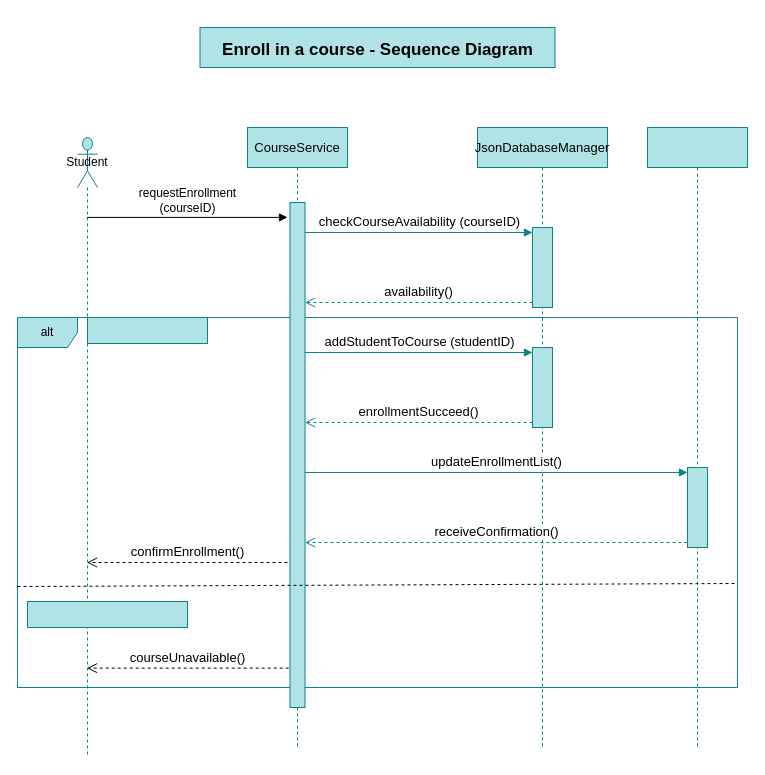
Image size: 765x775. Some labels were removed from this diagram. Here are the shapes that lost their labels. From the top down, the box of each, then its label:
(86, 316, 208, 344): [Course Available]
(646, 126, 748, 748): Course
(26, 600, 188, 628): else [Course Unavailable]
